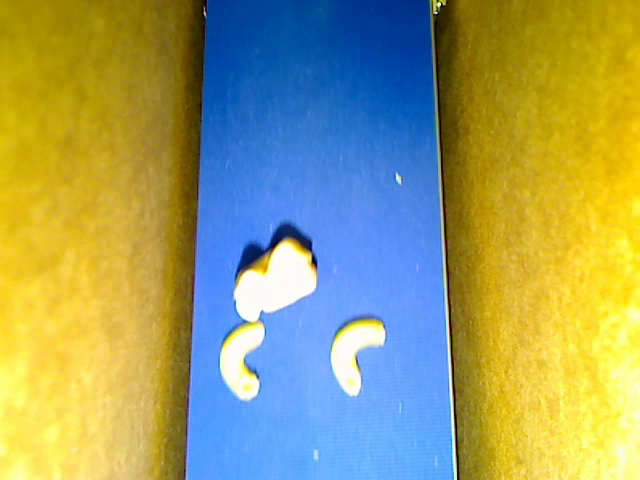elbow: (330, 318, 387, 396), (218, 320, 266, 401)
